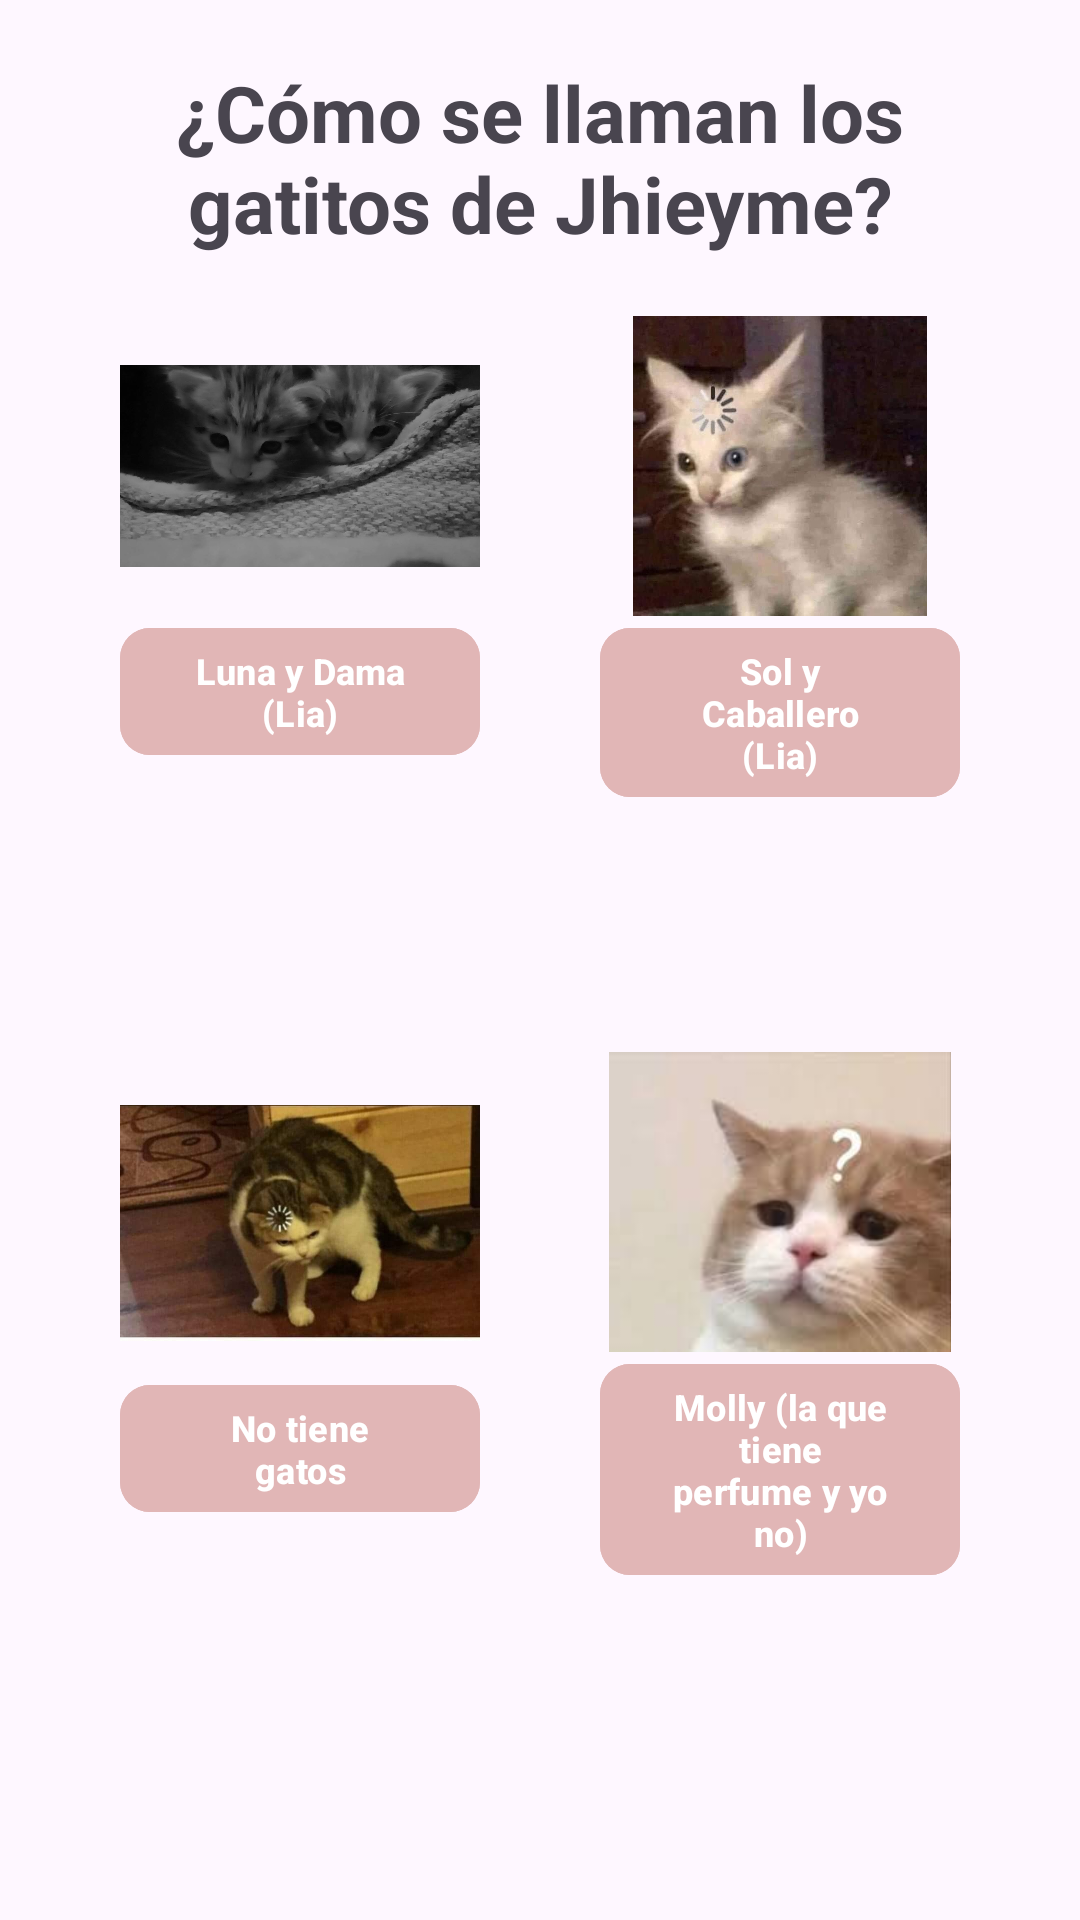

Named icons in this screenshot (1080 x 1920) and their bounding boxes, (x1, y1, x2, y2):
confused: (609, 1052, 951, 1352)
